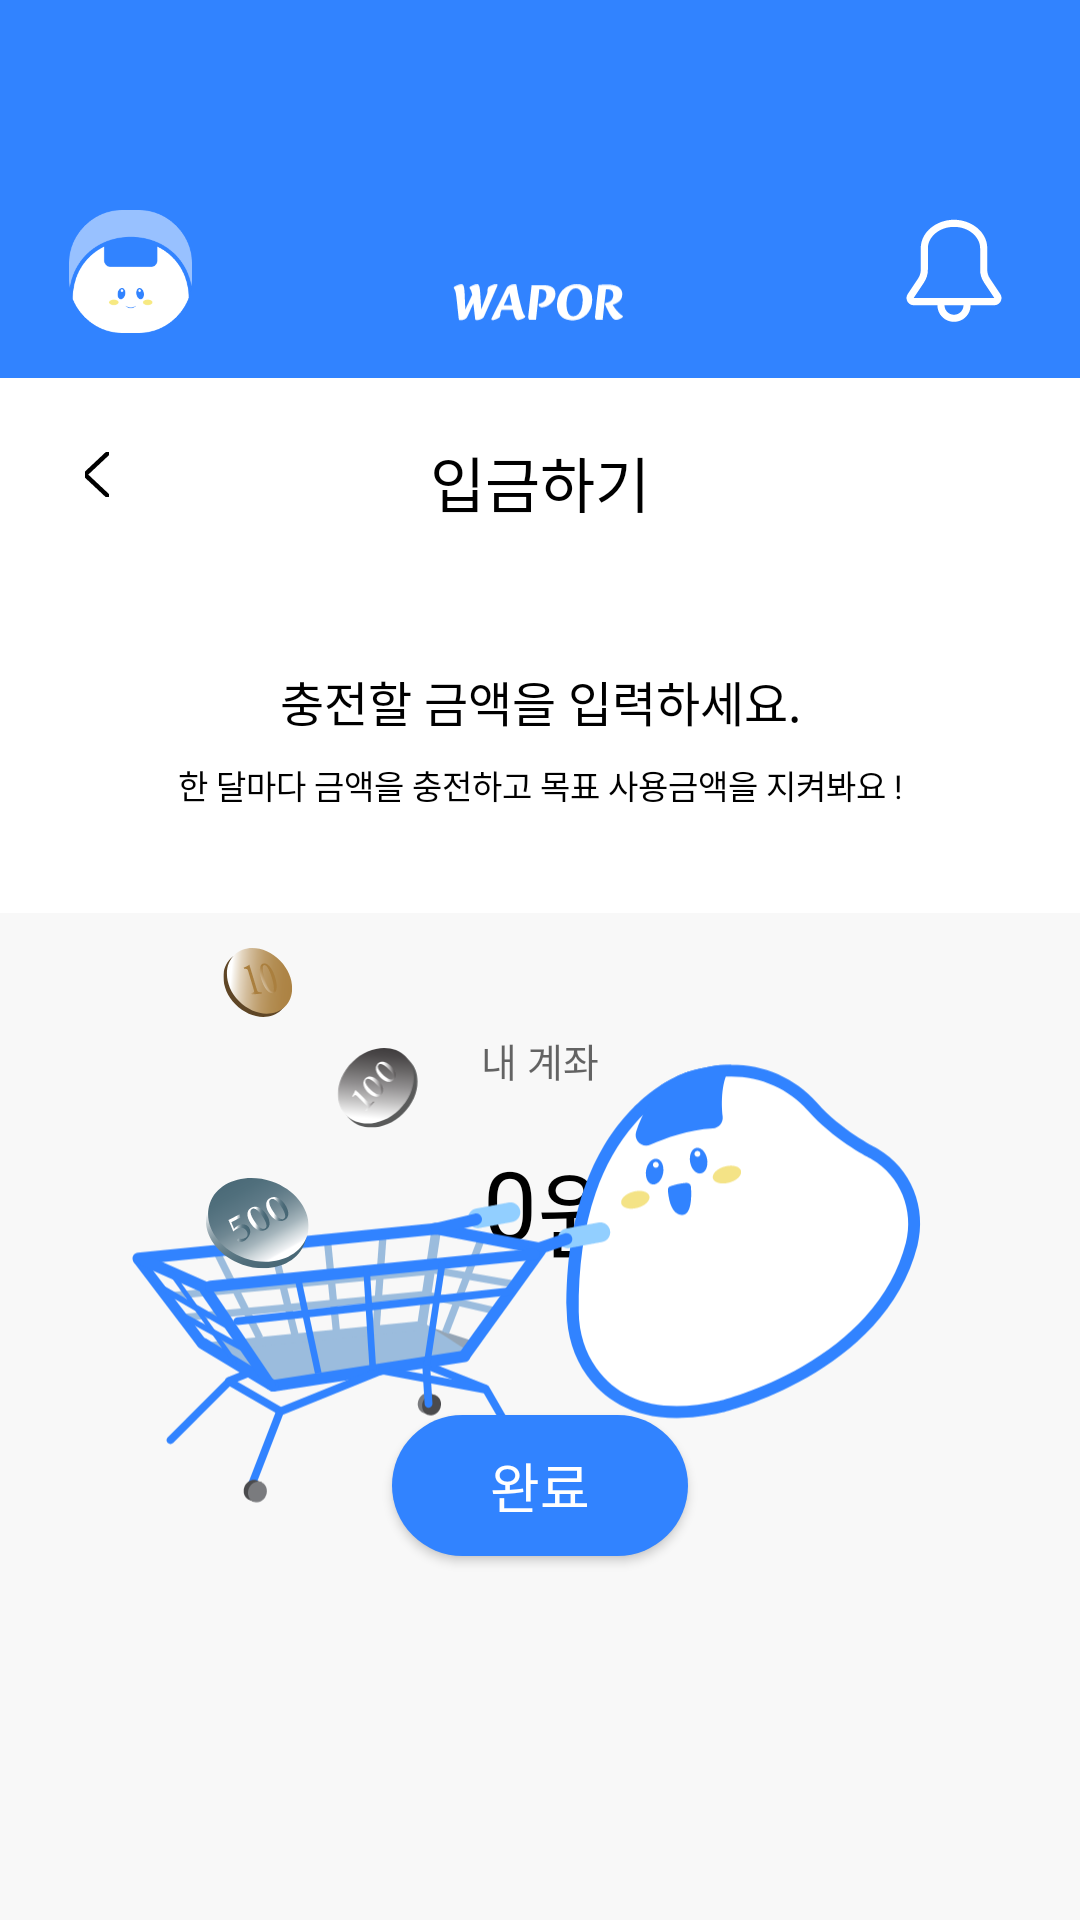

Named icons in this screenshot (1080px x 1920px) and their centers, [x,y]:
alarm: [954,270]
back: [97,474]
cart front: [373,1311]
won: [257,982], [378,1088], [257,1233]
